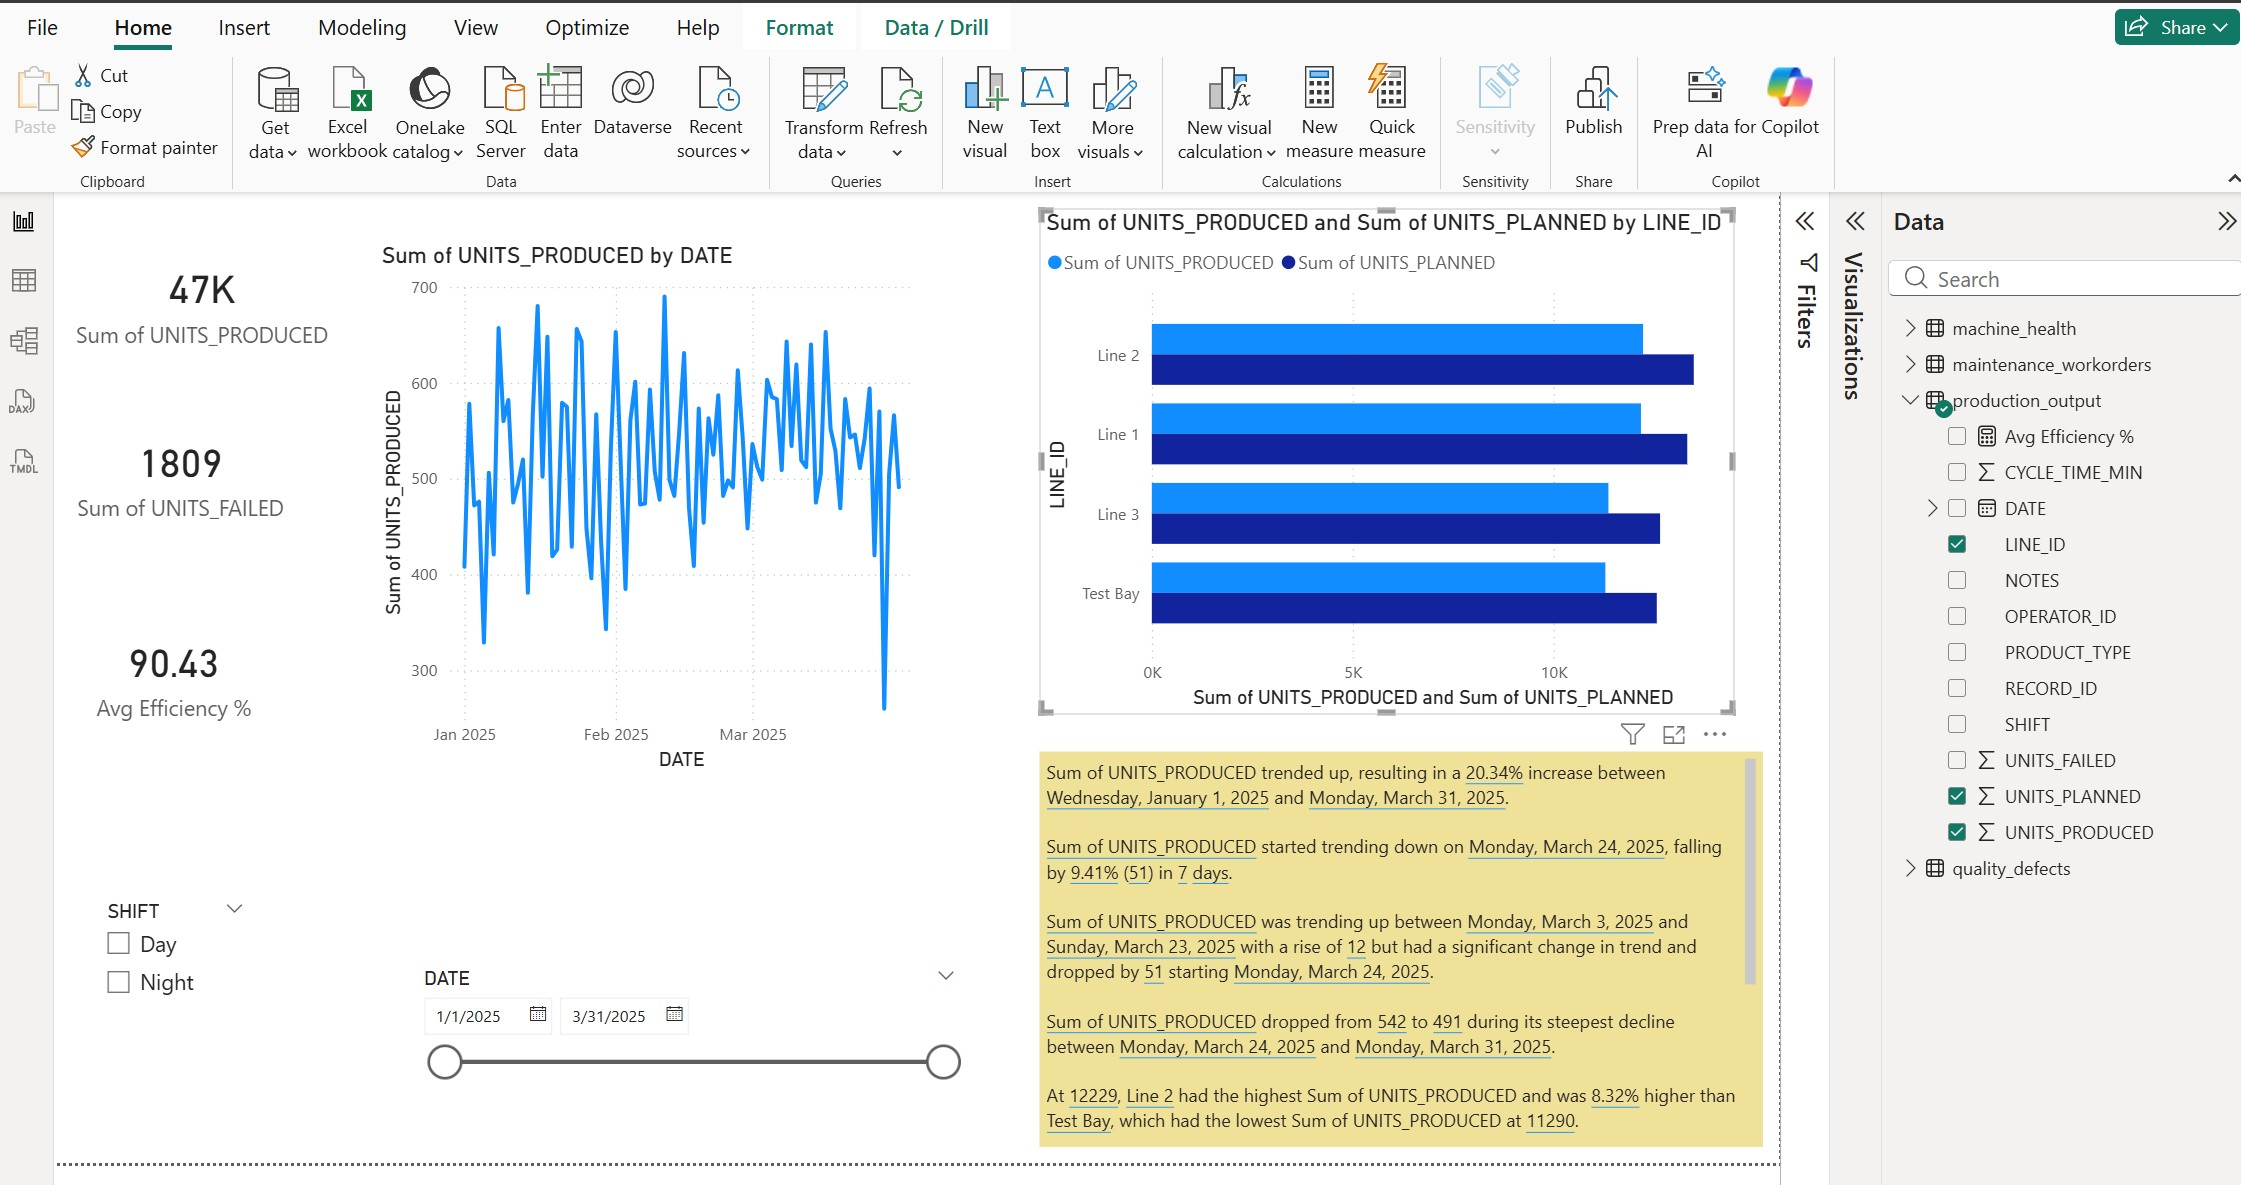

The dashboard page shown, as its layout file describes it:
{"tool":"powerbi","page":{"name":"Production Output","canvas":[1280,720],"ordinal":1},"visuals":[{"type":"card","fields":{"Values":["Sum(production_output.UNITS_PRODUCED)"]},"box":[10.2,0,198.8,161.9],"z":0},{"type":"card","fields":{"Values":["Sum(production_output.UNITS_FAILED)"]},"box":[10.2,145.3,167,127.4],"z":1000},{"type":"card","fields":{"Values":["production_output.Avg Efficiency %"]},"box":[0,300.8,177.2,114.7],"z":2000},{"type":"lineChart","fields":{"Y":["Sum(production_output.UNITS_PRODUCED)"],"Category":["production_output.DATE"]},"box":[238.3,37,419.3,396.4],"z":2001},{"type":"clusteredBarChart","fields":{"Category":["production_output.LINE_ID"],"Y":["Sum(production_output.UNITS_PRODUCED)","Sum(production_output.UNITS_PLANNED)"]},"box":[731.6,0,514.9,374.7],"z":2002},{"type":"slicer","fields":{"Values":["production_output.SHIFT"]},"box":[26.8,520,126.2,99.4],"z":2003},{"type":"slicer","fields":{"Values":["production_output.DATE"]},"box":[261.3,569.7,419.3,150.4],"z":2004},{"type":"textbox","box":[731.6,415.5,536.6,293.1],"z":2005}]}

Visuals, with their boxes on the page's 1280x720 design canvas (x1, y1, x2, y2). These are canvas units, not pixel positions in the 2241x1185 screenshot, which may show the page scaled, cropped or inside an application window:
card - Sum(production_output.UNITS_PRODUCED): crop(10, 0, 209, 162)
card - Sum(production_output.UNITS_FAILED): crop(10, 145, 177, 273)
card - production_output.Avg Efficiency %: crop(0, 301, 177, 416)
lineChart - Sum(production_output.UNITS_PRODUCED) x production_output.DATE: crop(238, 37, 658, 433)
clusteredBarChart - production_output.LINE_ID x Sum(production_output.UNITS_PRODUCED): crop(732, 0, 1246, 375)
slicer - production_output.SHIFT: crop(27, 520, 153, 619)
slicer - production_output.DATE: crop(261, 570, 681, 720)
textbox: crop(732, 416, 1268, 709)
